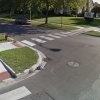crosswalk: (21, 31, 78, 46), (0, 84, 32, 100)
